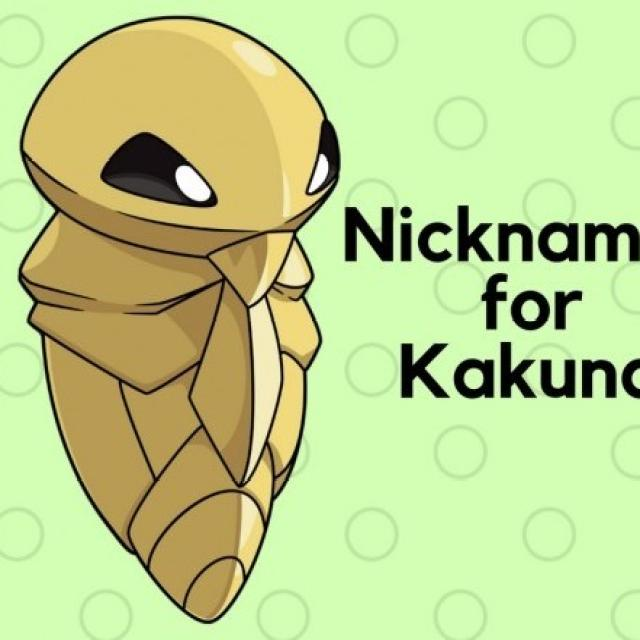Kakuna: (17, 5, 340, 637)
